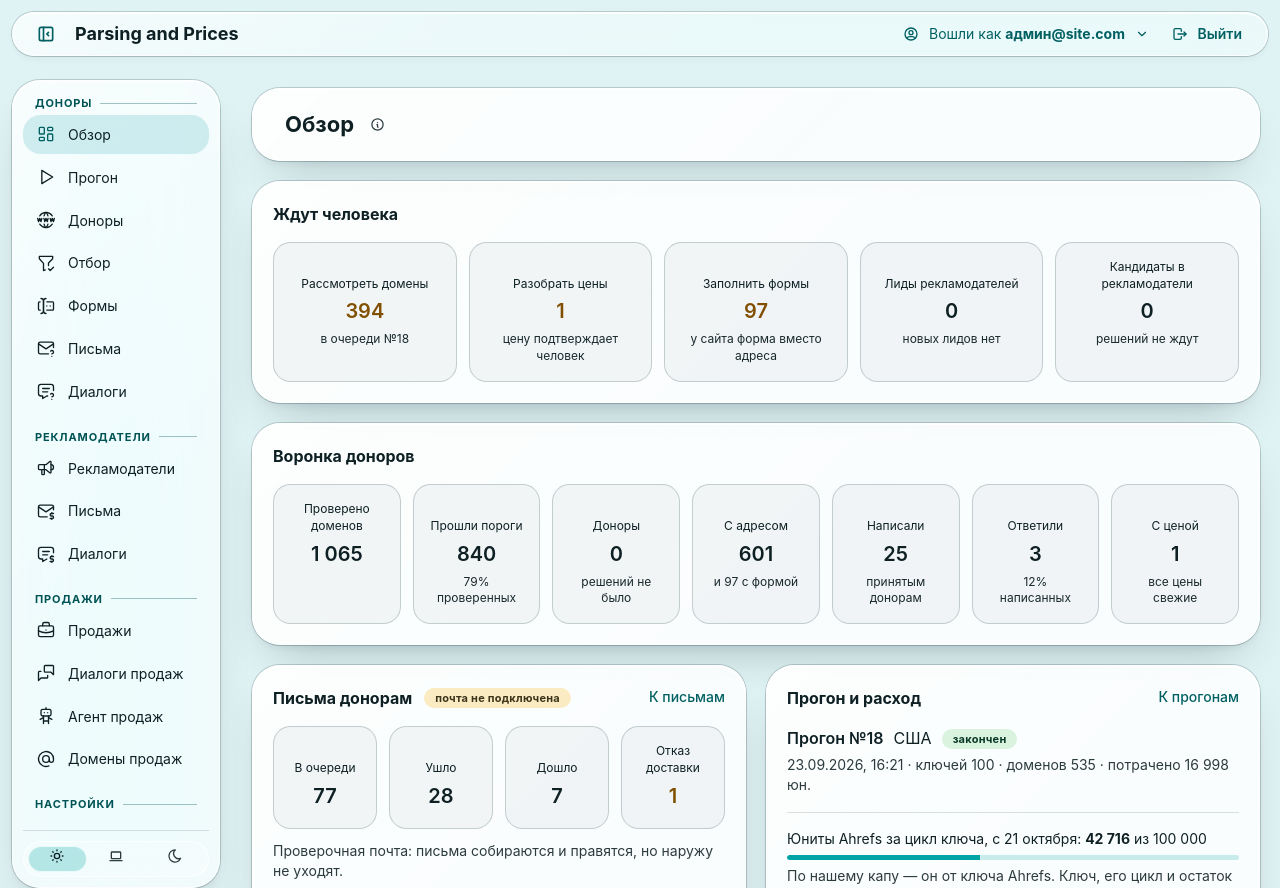
Test case: рама приложения › выход убирает пропуск и возвращает на вход
Click the button "Выйти": click(1208, 34) [1165,21,1251,47]
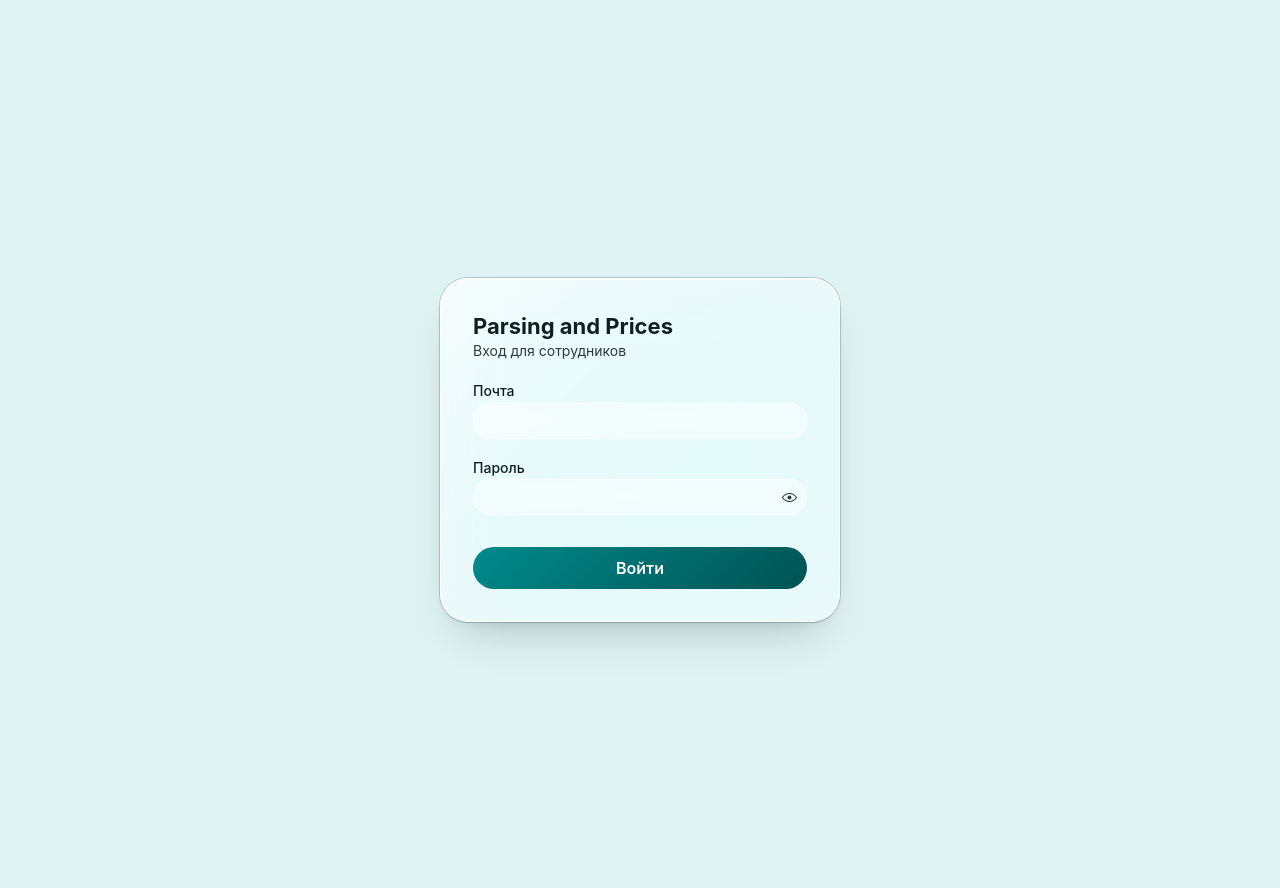
Check: the text "Вход для сотрудников" is shown, box [473,342,626,360]
